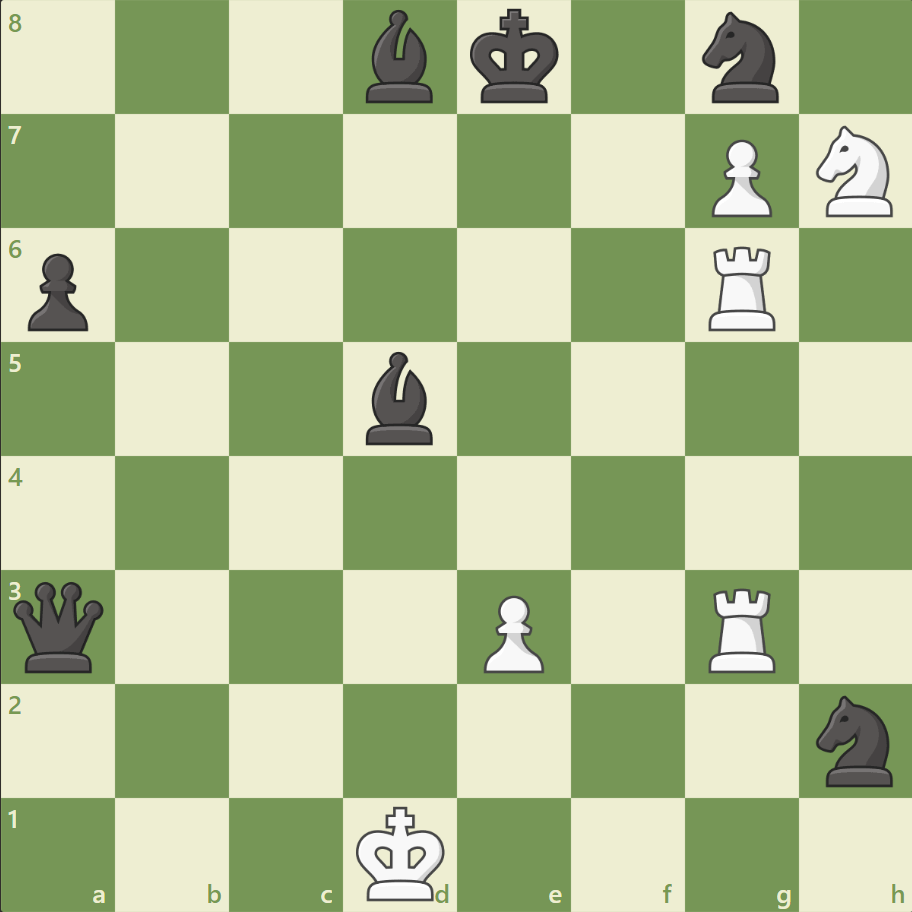K: (351, 798, 451, 906)
N: (806, 121, 903, 223)
P: (701, 132, 776, 223), (474, 586, 549, 677)
R: (700, 239, 783, 336), (700, 579, 783, 676)
b: (358, 6, 442, 109), (358, 347, 442, 449)
k: (465, 4, 565, 112)
n: (692, 7, 789, 110), (806, 688, 903, 791)
p: (20, 246, 95, 337)
q: (10, 576, 109, 676)
